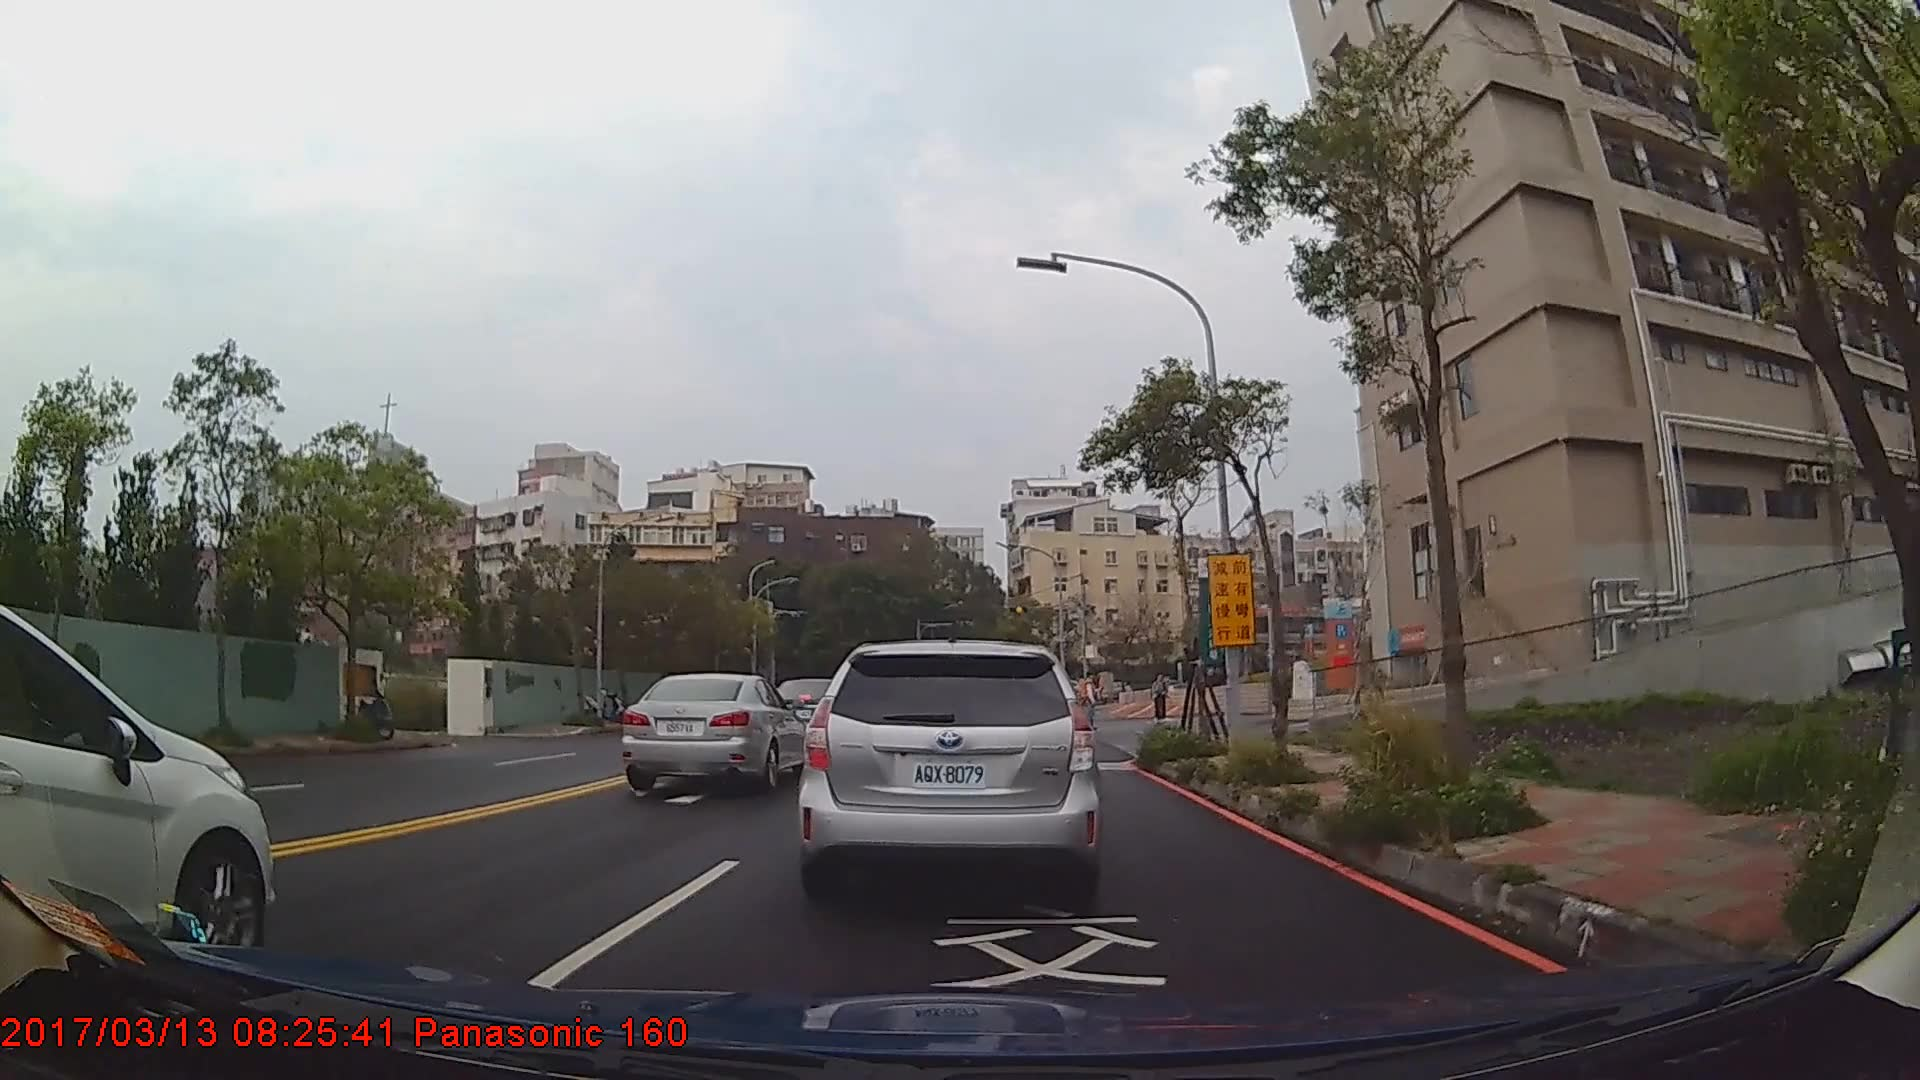pedestrian: (1081, 669, 1105, 736)
vehicle: (0, 603, 275, 964), (797, 635, 1107, 909), (621, 673, 810, 791)
